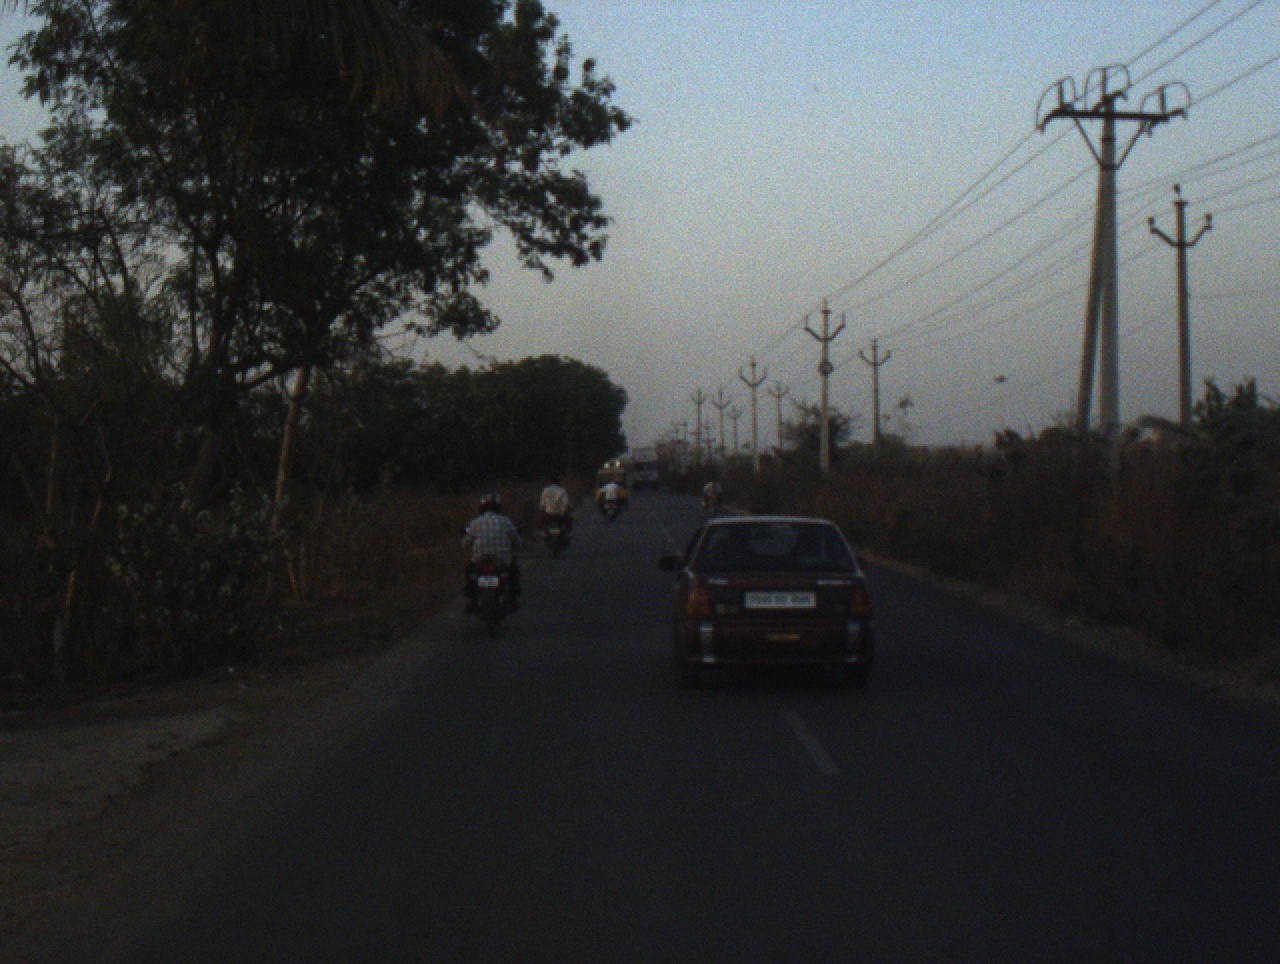autorickshaw: (593, 456, 629, 514)
car: (653, 515, 885, 693)
motorcycle: (459, 522, 526, 633), (541, 512, 574, 564), (706, 491, 724, 518), (604, 500, 619, 522)
rider: (460, 489, 525, 618), (536, 476, 575, 535), (599, 477, 622, 505), (703, 475, 724, 501)
truck: (630, 447, 663, 490)
